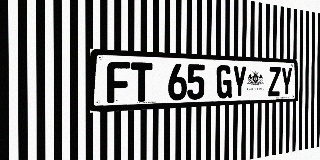5: (187, 64, 205, 100)
6: (168, 63, 187, 101)
F: (107, 61, 130, 103)
G: (216, 65, 232, 99)
T: (131, 62, 152, 102)
Y: (232, 65, 247, 98), (281, 67, 292, 96)
Z: (268, 66, 281, 96)
